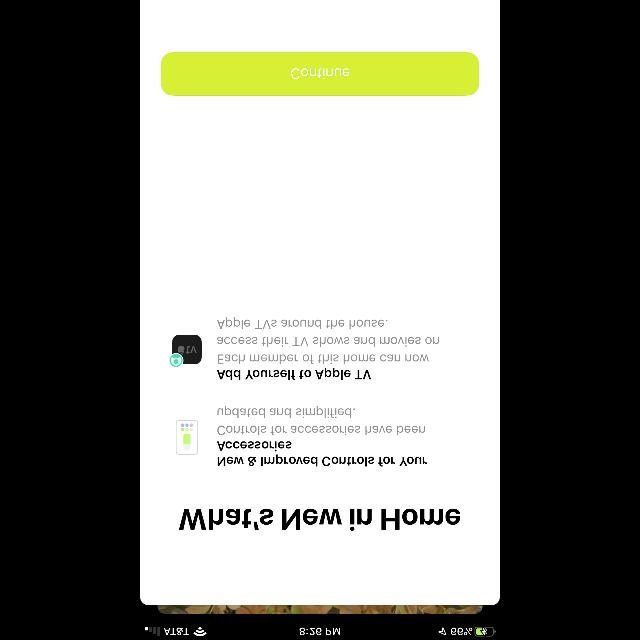image: (170, 334, 202, 368), (176, 420, 198, 454)
text: (217, 318, 439, 364), (179, 508, 461, 532), (217, 406, 425, 436), (217, 441, 427, 467), (217, 368, 371, 380)
textbutton: (161, 52, 479, 96)
uppertaskbar: (140, 626, 500, 640)
